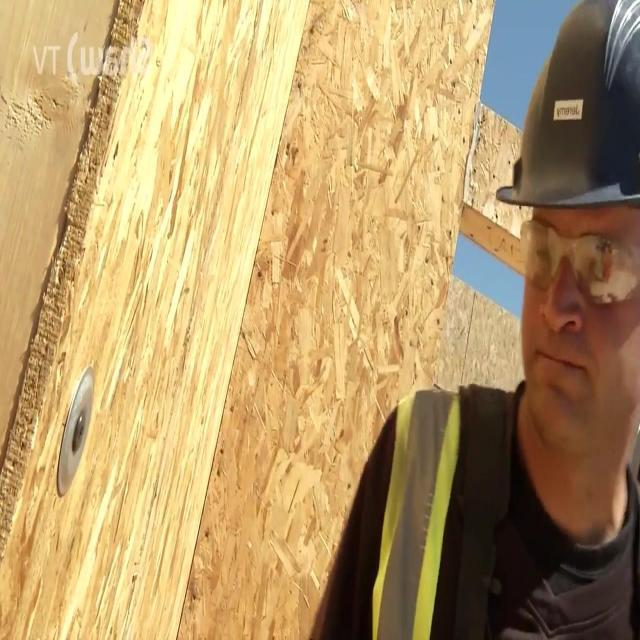reflective_jacket: (367, 375, 639, 639)
safety_helmet: (492, 2, 639, 240)
